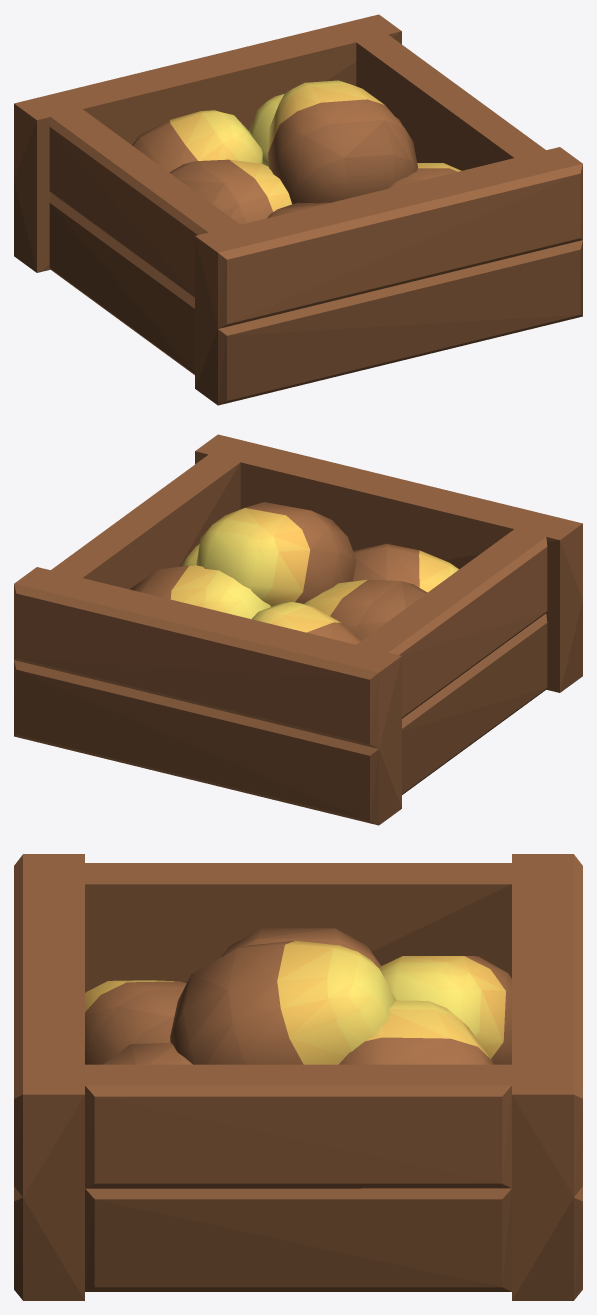
File: kaykit_restaurant_crate_potatoes.glb
3 renders of one model, top to bottom at view 1: azimuth 30°, elevation 25°; view 2: azimuth 150°, elevation 25°; view 3: azimuth 270°, elevation 25°, orthographic. The views are drawn at different scales.
Parts seen in each view (by area): view 1: wood, plaster; view 2: wood, plaster; view 3: wood, plaster.
Part boxes in pixels (x1,y1,x2,y2): wood: (14, 14, 582, 405); plaster: (170, 80, 461, 211); wood: (14, 434, 582, 825); plaster: (170, 508, 458, 632); wood: (14, 854, 582, 1300); plaster: (85, 940, 505, 1064).
Size of the model in its own units: 2 by 0.9658 by 2.
